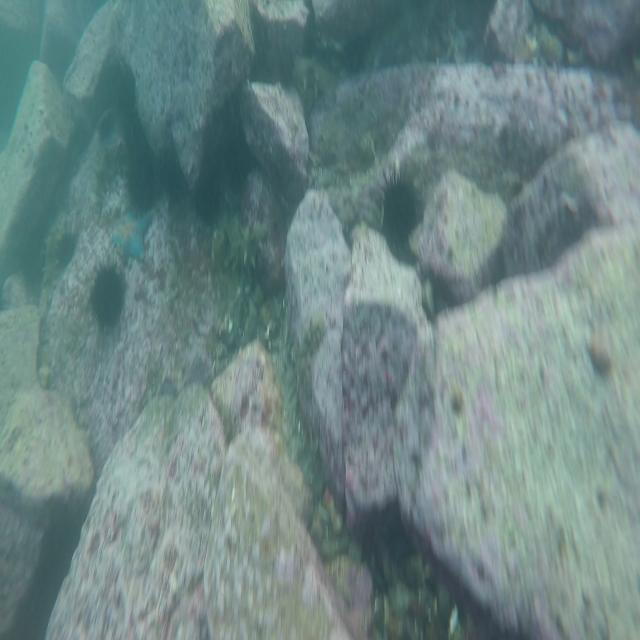echinus: (376, 169, 420, 236), (88, 258, 126, 329)
holothurian: (288, 51, 343, 107), (221, 214, 268, 274), (42, 206, 74, 289), (94, 143, 132, 200)
starfish: (110, 210, 153, 270)
